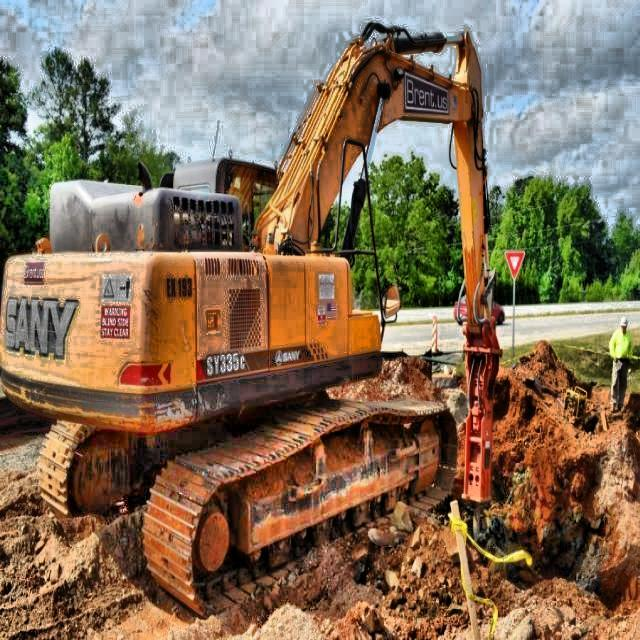excavator: (0, 20, 542, 619)
